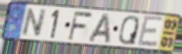1: (49, 10, 60, 40)
A: (86, 12, 111, 45)
E: (136, 14, 165, 48)
F: (67, 11, 94, 41)
N: (20, 8, 48, 38)
Q: (117, 15, 140, 46)
